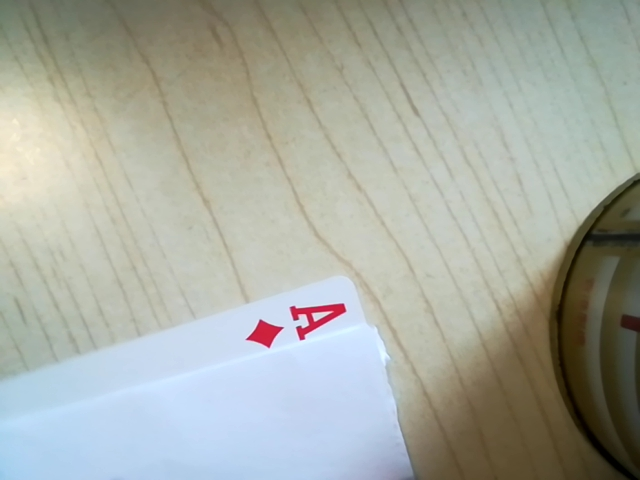fk a: (233, 298, 355, 352)
